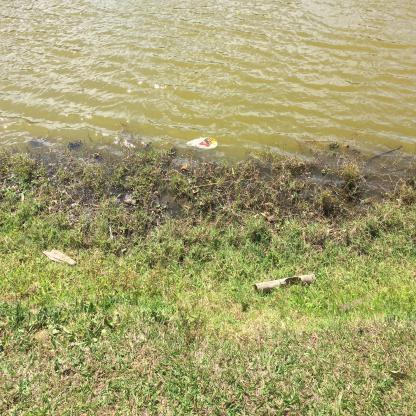diger: (254, 274, 318, 294), (44, 250, 78, 267)
plastik: (187, 138, 219, 150)
